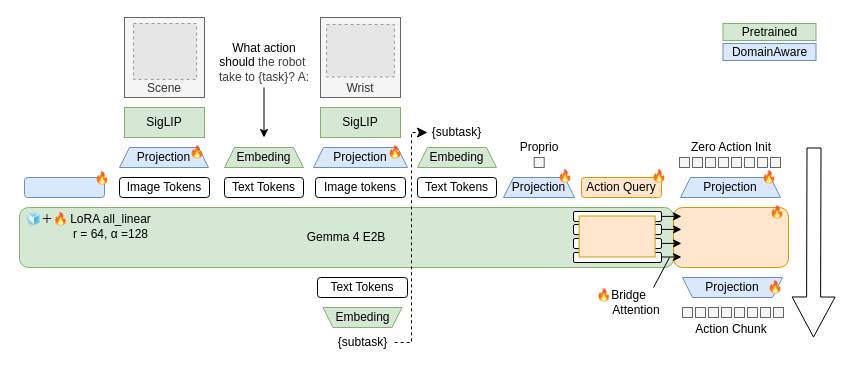
Some shapes in this 853 by 375 pixel diagram are drawn without their labels. Grey dashed boxes stand in for pictures. The box of each missing label's shape, as (x1, y1, x2, y2) in pixels:
hidden state per layer: (578, 215, 655, 257)
MLP-ResNet-Block: (672, 206, 788, 268)
Soft Prompt: (24, 176, 104, 198)
